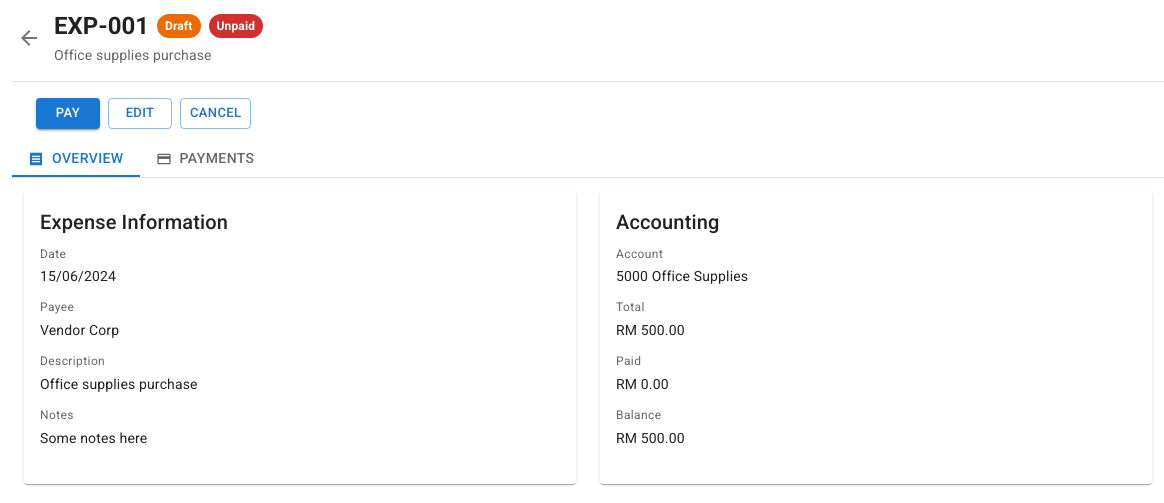
Test: ExpenseDetailPage › Payments tab › renders payment method and reference
Click the tab "Payments" at point(205, 159), box [140,141,270,177]
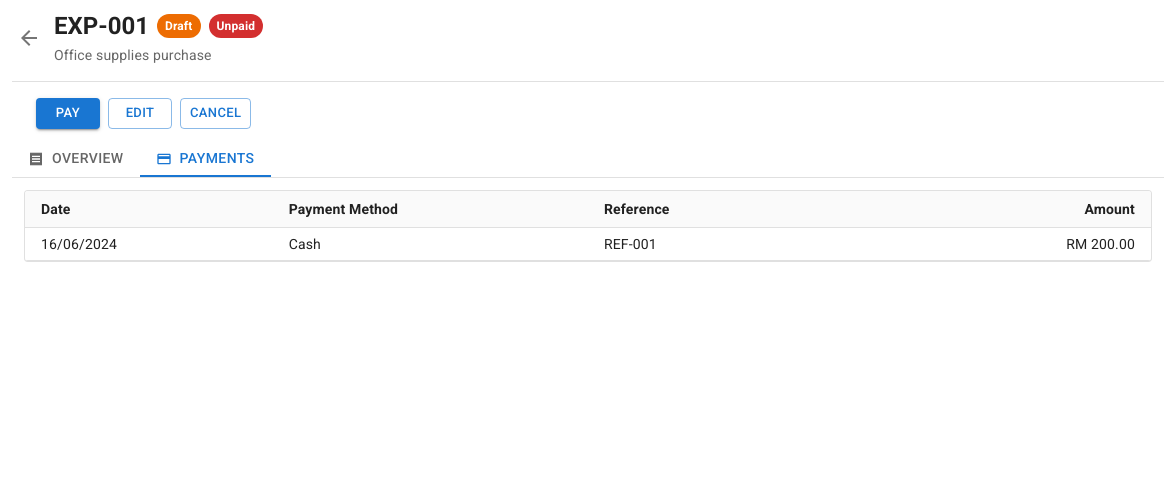
Expected: the text "Cash" is shown, [273,227,588,260]
Expected: the text "REF-001" is shown, [588,227,903,260]
